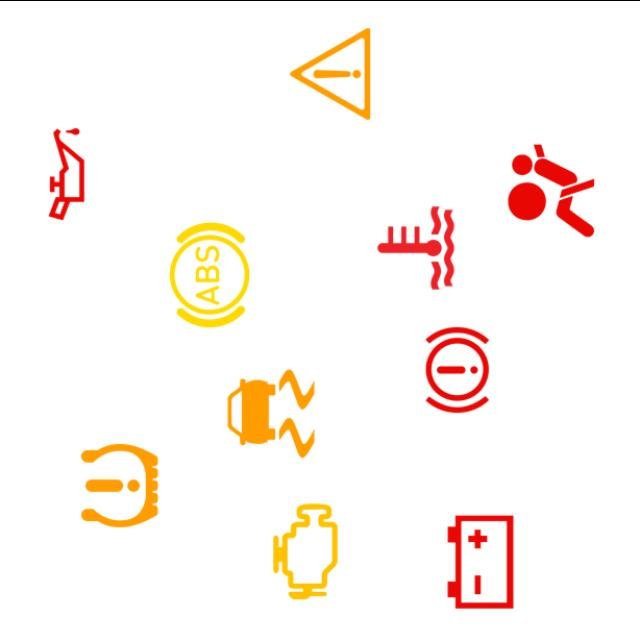Anti Lock Braking System: (152, 217, 266, 331)
Braking System Issue: (400, 312, 514, 426)
Charging System Issue: (423, 504, 538, 618)
Check Engine: (248, 493, 362, 608)
Electronic Stability Problem -ESP-: (214, 356, 328, 470)
Engine Overheating Warning Light: (359, 190, 473, 304)
Low Engine Oil Warning Light: (10, 116, 124, 230)
Low Tire Pressure Warning Light: (63, 427, 177, 542)
Master warning light: (274, 16, 388, 130)
SRS-Airbag: (494, 132, 608, 246)
